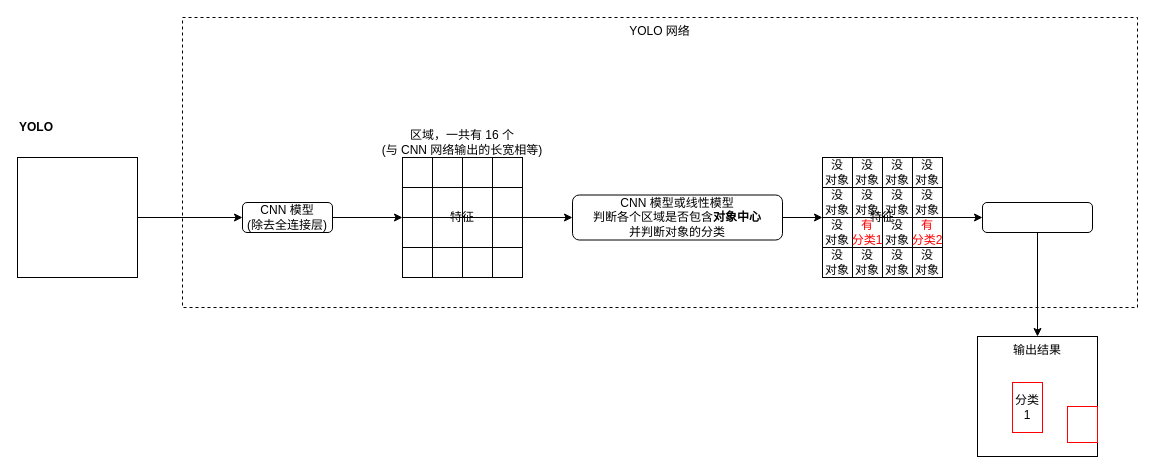
Image size: 1155x474. Some labels were removed from this diagram. The shapes that lost their labels are listed below. From the top down, each one's box as (x1, y1, x2, y2) in pixels, then its label:
(16, 156, 138, 278): 图片
(982, 202, 1092, 232): 计算对象区域 与提取分类
(1066, 406, 1098, 442): 分类2
